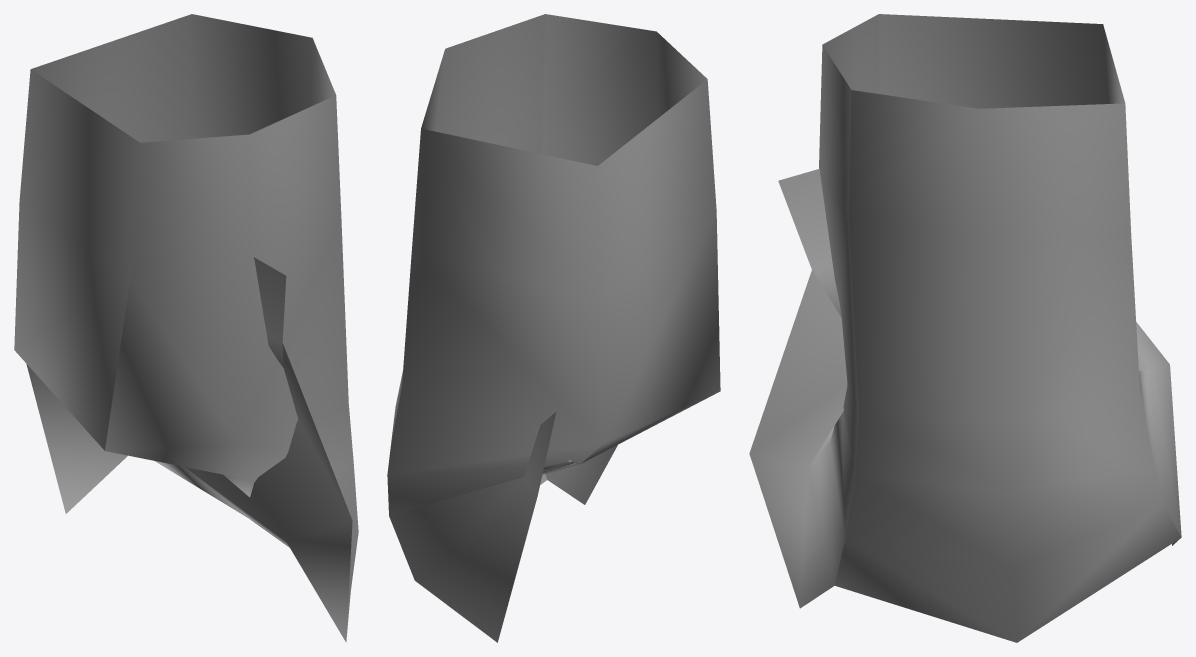
File: right_arm.glb
The picture shows the model from 3 angles, left to right: view 1: azimuth 30°, elevation 25°; view 2: azimuth 150°, elevation 25°; view 3: azimuth 270°, elevation 25°; orthographic projection. The views are drawn at different scales.
Parts seen in each view (by area): view 1: polo-grey_RIGHT_ARM; view 2: polo-grey_RIGHT_ARM; view 3: polo-grey_RIGHT_ARM.
Boxes of the visible parts, x1,y1,x2,y2 form: polo-grey_RIGHT_ARM: [14, 14, 358, 642]; polo-grey_RIGHT_ARM: [387, 14, 720, 642]; polo-grey_RIGHT_ARM: [749, 14, 1181, 642].
Bounding box in the file's own units: 0.1394 × 0.252 × 0.1856.
Materials: 1 (1 with a texture image).
